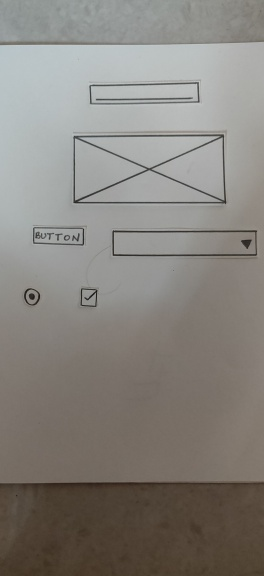button: (30, 222, 88, 244)
checkbox: (76, 283, 113, 318)
dropdown: (109, 229, 258, 257)
img: (69, 134, 224, 201)
radio: (19, 279, 47, 316)
text: (83, 80, 203, 105)
